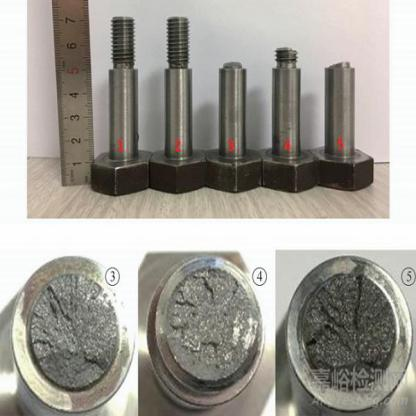FOD: (90, 14, 149, 195), (150, 14, 207, 194), (262, 47, 318, 192), (319, 54, 375, 192), (206, 60, 260, 194)
